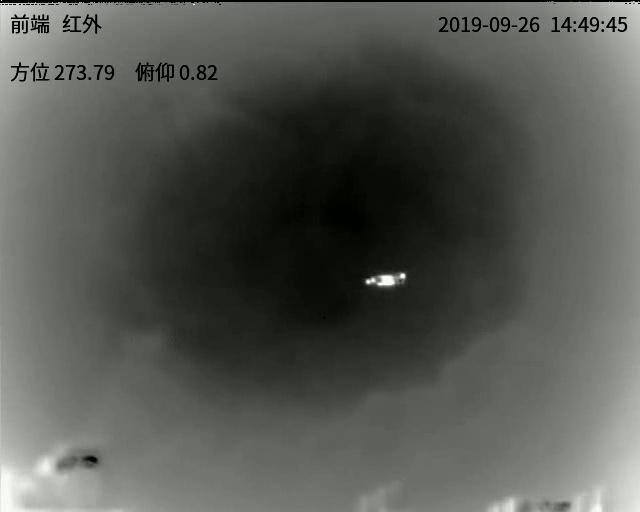DRONE: (363, 271, 408, 288)
